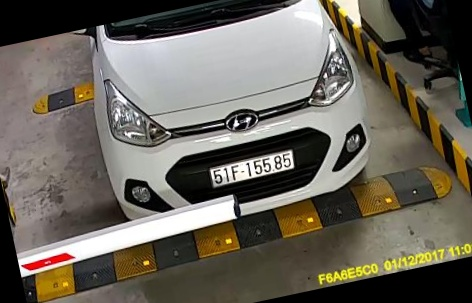plate: (205, 150, 297, 189)
